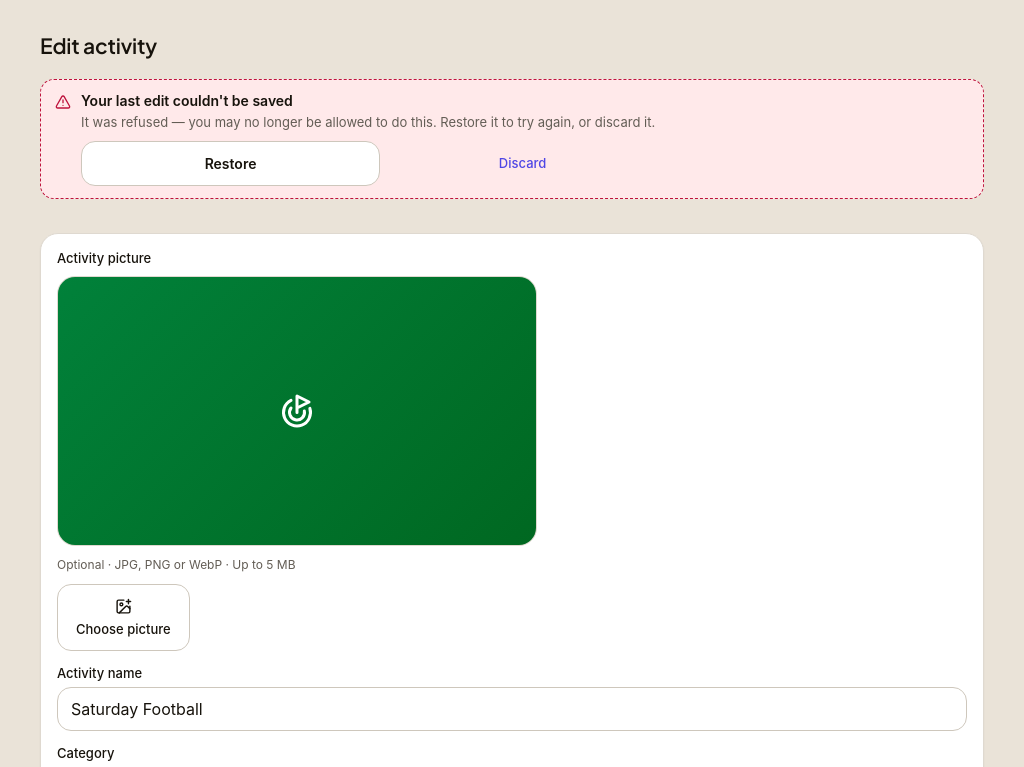
Test case: editing an activity › the newest failed edit of this activity is the one offered
What coordinates should you click on to do the following:
click the button "Restore"
I would click on:
 (231, 163)
Its box is [81,141,380,186].
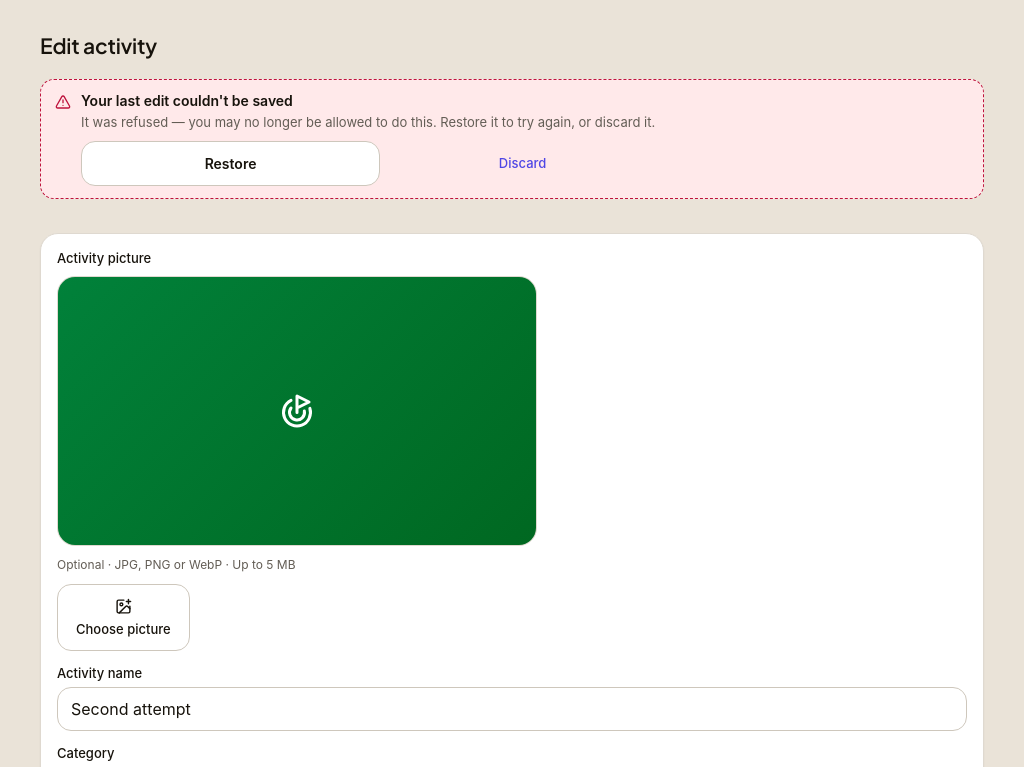
Result: the field showing "Second attempt" is shown at [57,687,967,731]
